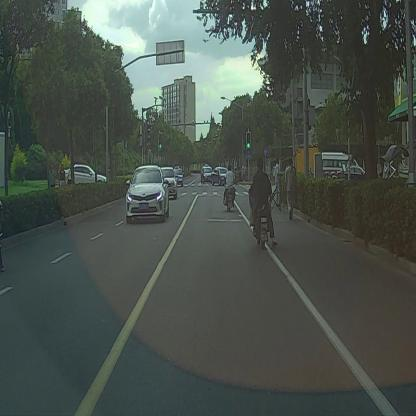Green Light: (158, 130, 163, 151), (247, 131, 251, 150)
